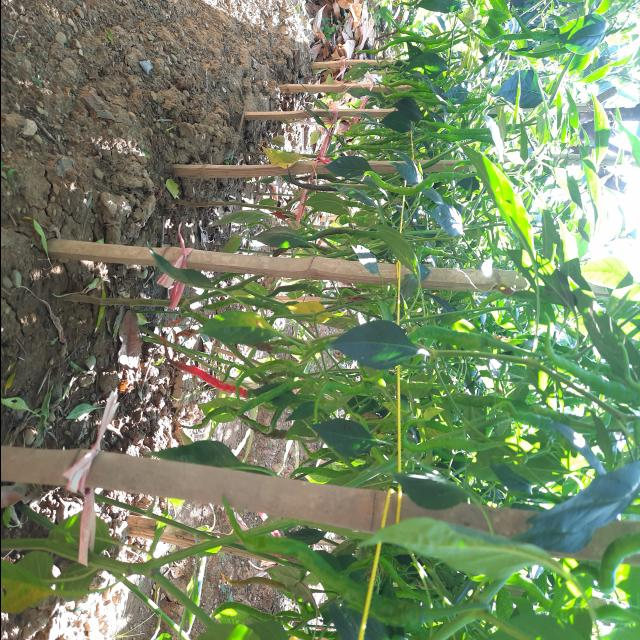sehat: (328, 318, 416, 386), (311, 415, 384, 460), (381, 95, 422, 133), (329, 152, 373, 182)
